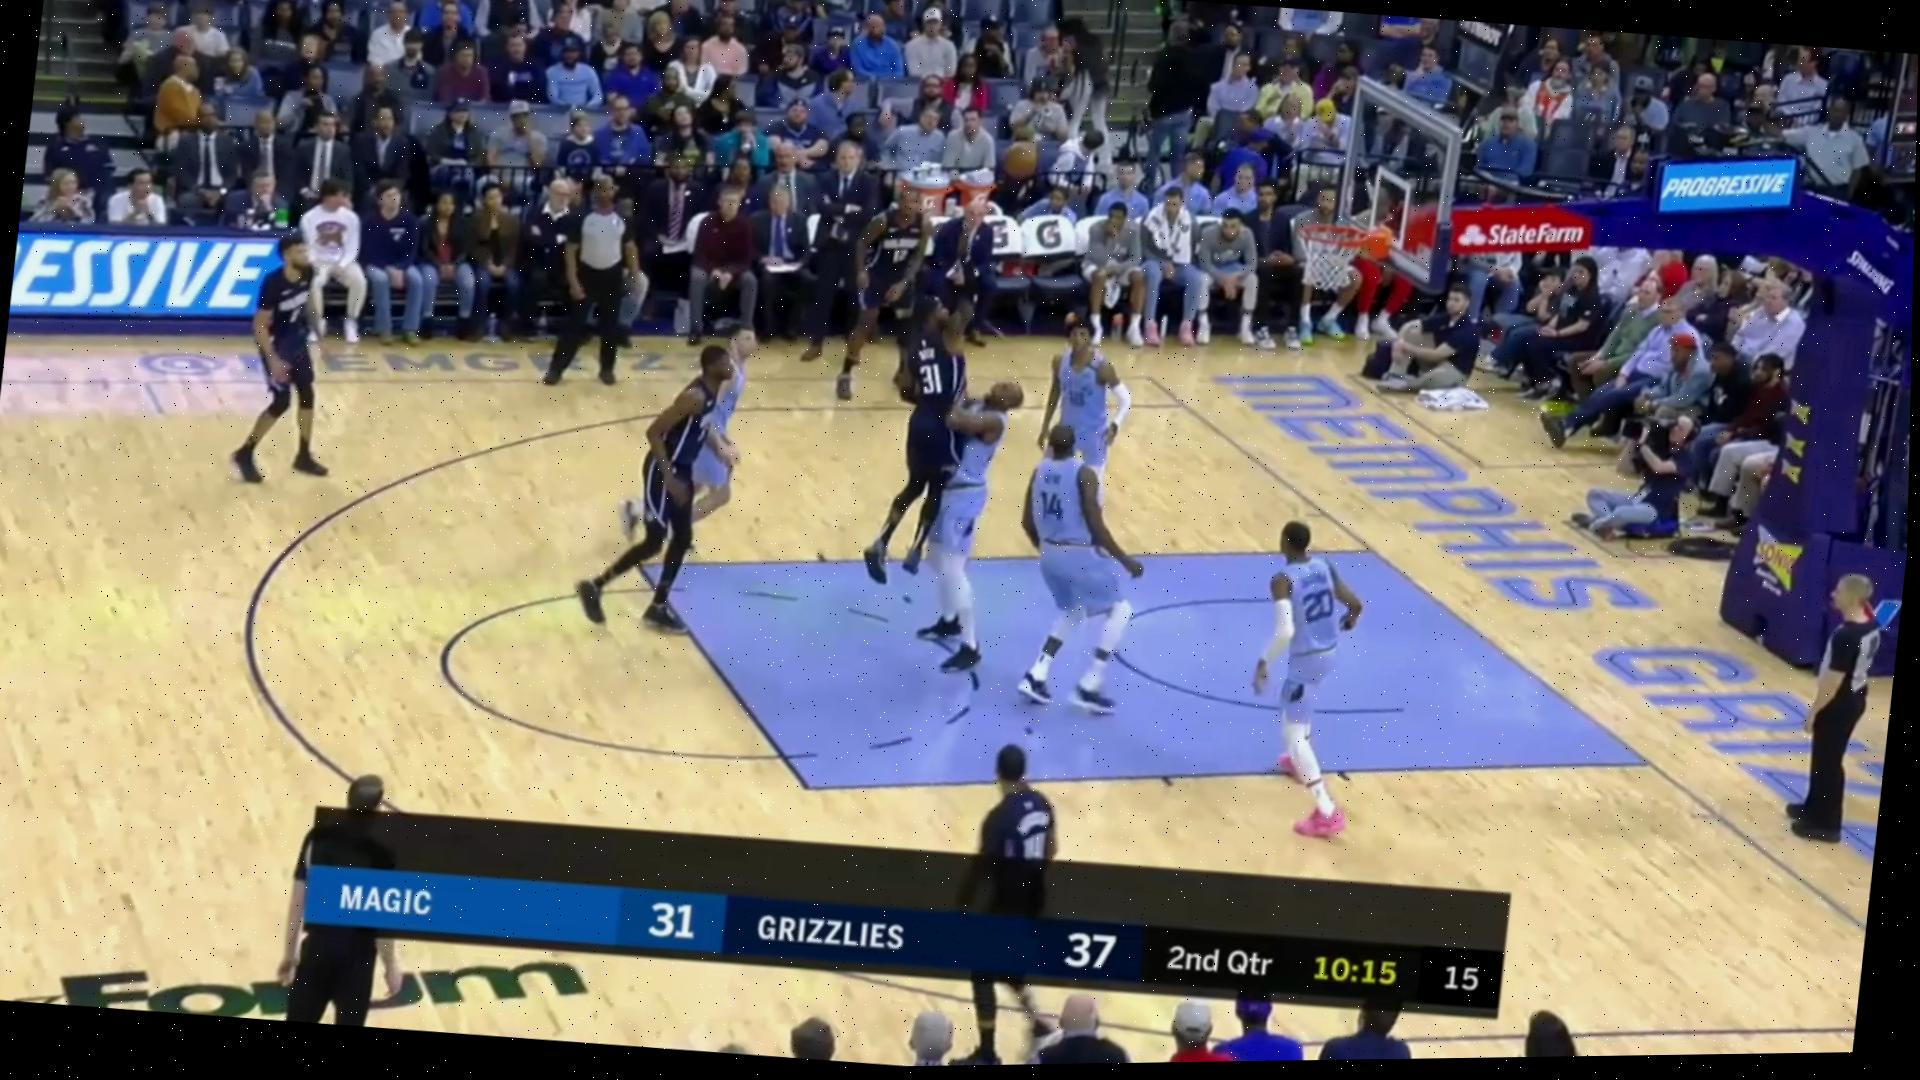foul: (880, 297, 1021, 670)
